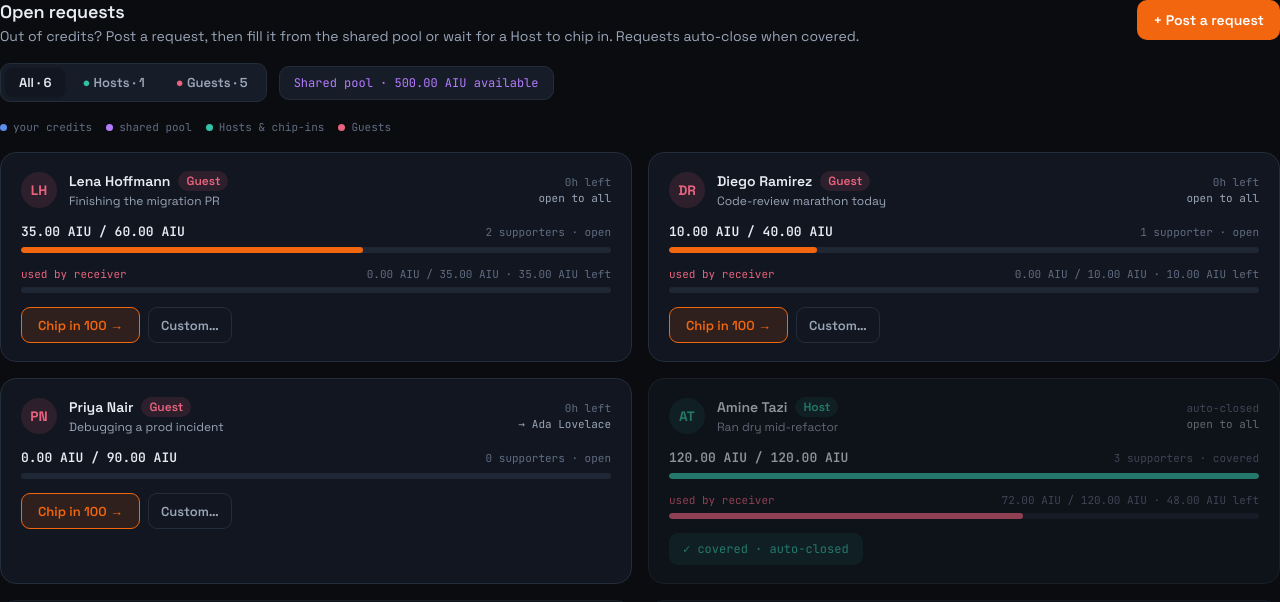
Test: marketplace › fills own request from the shared pool
Click the button "+ Post a request": x=1209, y=20 [1137, 0, 1279, 40]
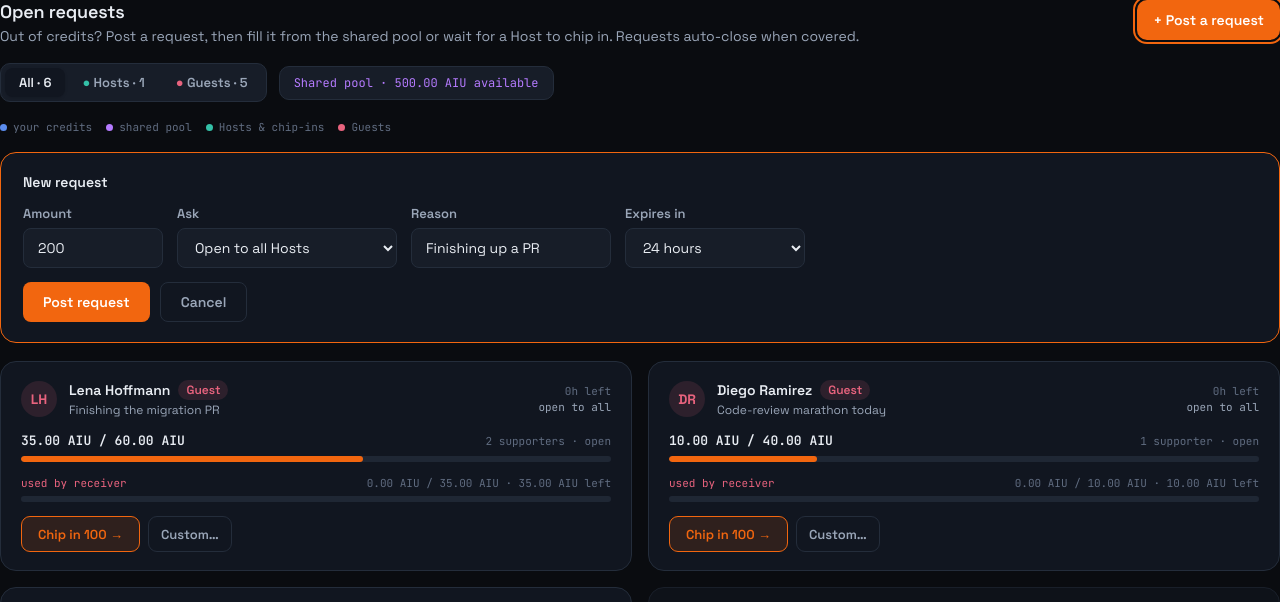
Click the button "Post request": x=86, y=302 [23, 282, 150, 322]
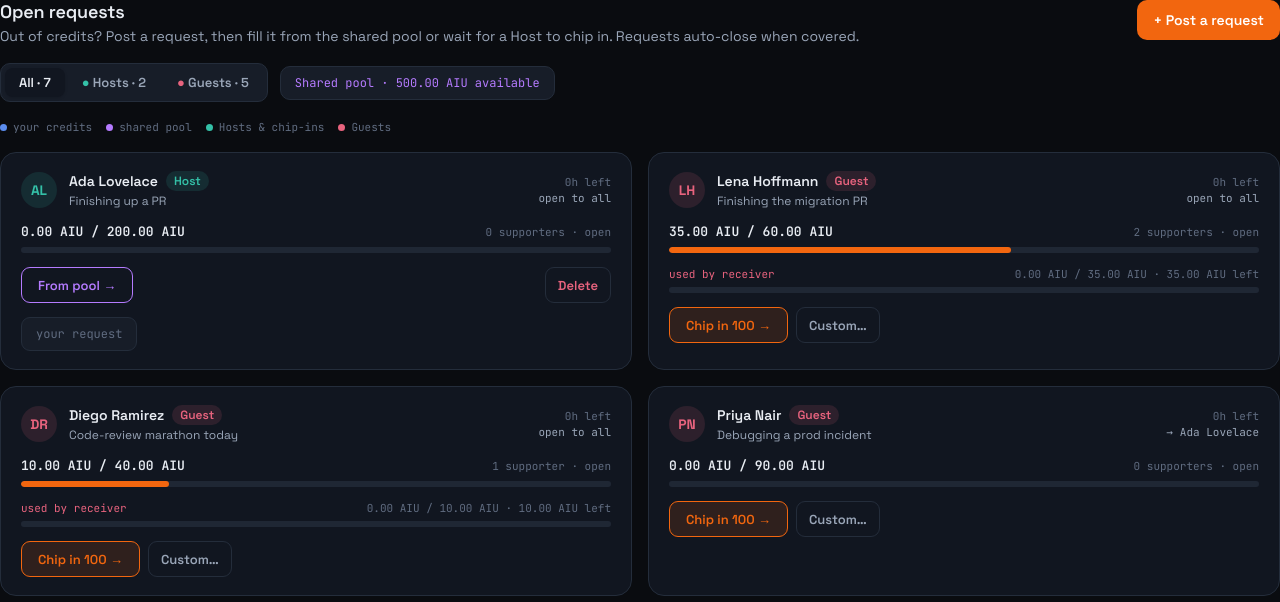
expect the text "your request" is shown: met, box [21, 317, 137, 351]
Click the button "From pool →": x=77, y=285 [21, 267, 133, 303]
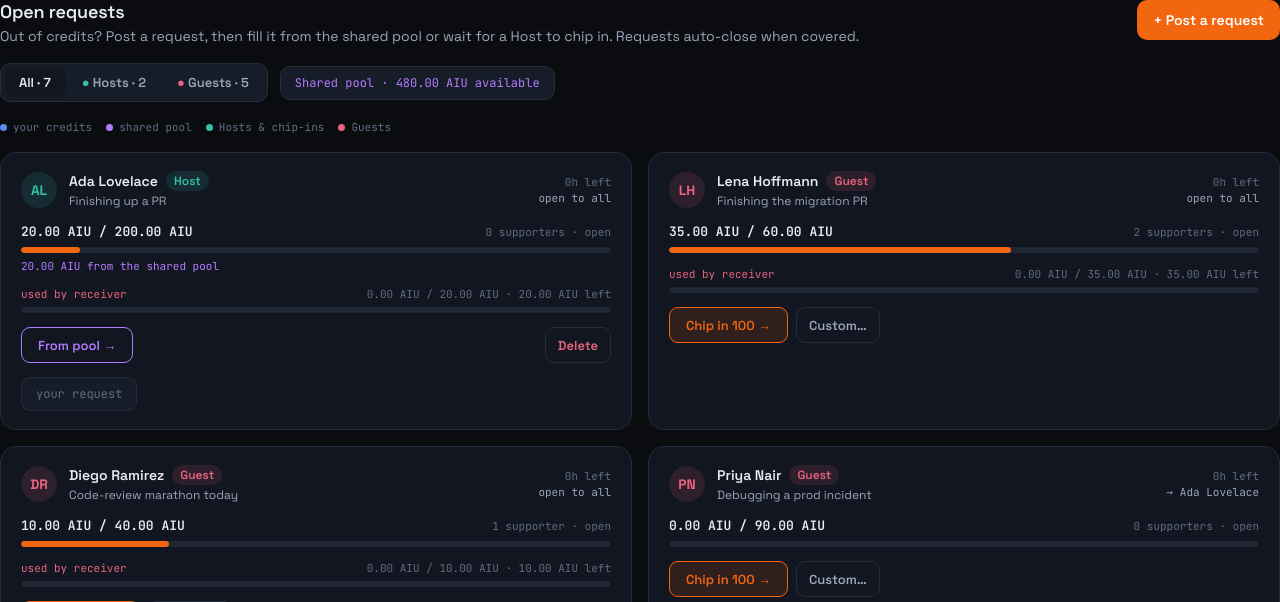
expect the text "Shared pool · 480.00 AIU available" is shown: met, box [280, 66, 555, 100]
expect the text "20.00 AIU from the shared pool" is shown: met, box [21, 259, 219, 273]
